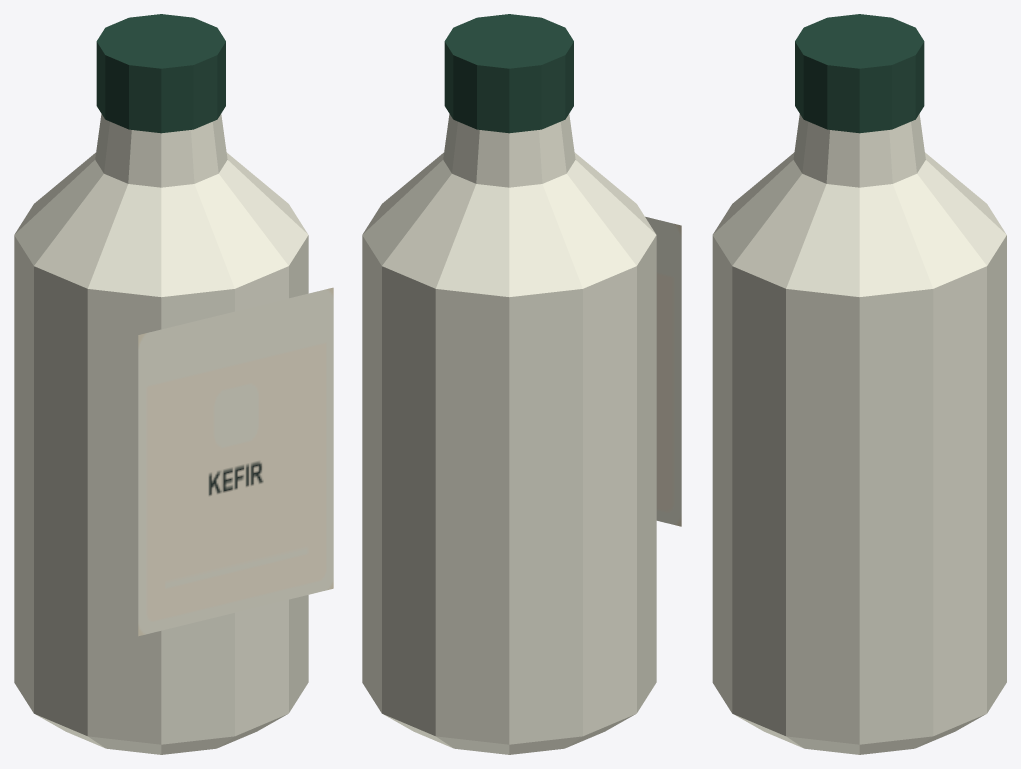
Rendered from kefir.fbx.
The picture shows the model from 3 angles, left to right: view 1: azimuth 30°, elevation 25°; view 2: azimuth 150°, elevation 25°; view 3: azimuth 270°, elevation 25°; orthographic projection.
Visible parts, largest first — view 1: kefir; view 2: kefir; view 3: kefir.
Part boxes in pixels (x1,y1,x2,y2): kefir: [14, 14, 333, 754]; kefir: [362, 14, 681, 754]; kefir: [712, 14, 1006, 754].
Bounding box in the file's own units: 12.4 × 31 × 12.5.
